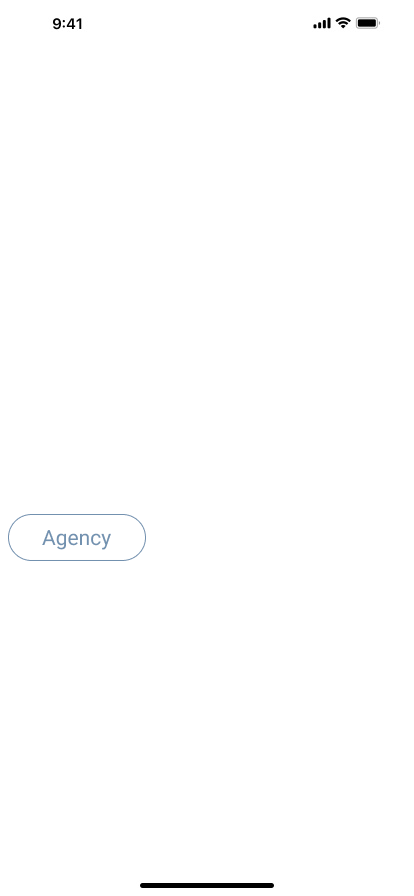Buttons: (8, 514, 154, 561)
Home Indicator: (0, 862, 414, 896)
Status Bar: (0, 0, 414, 44)
